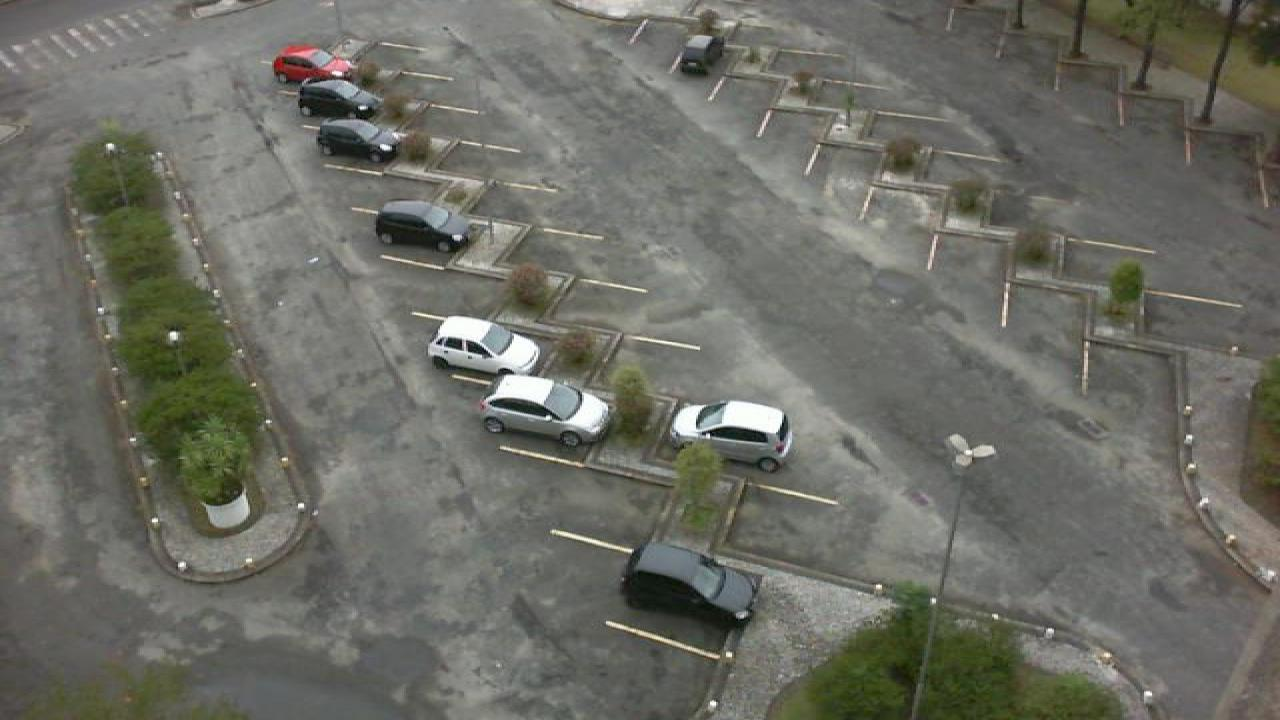Car: (618, 541, 758, 626), (478, 373, 612, 448), (668, 399, 794, 472), (424, 315, 542, 380), (374, 199, 474, 252), (314, 119, 400, 162), (272, 45, 356, 87), (296, 79, 382, 120), (674, 32, 724, 76)
